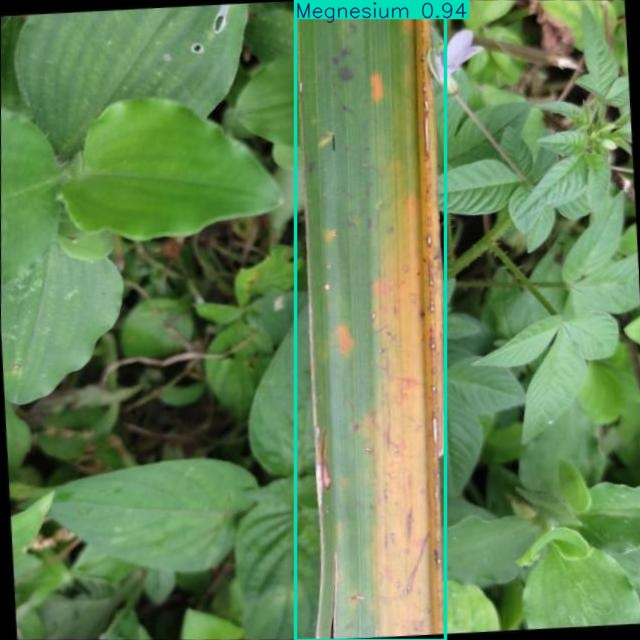Megnesium: (296, 1, 445, 640)
